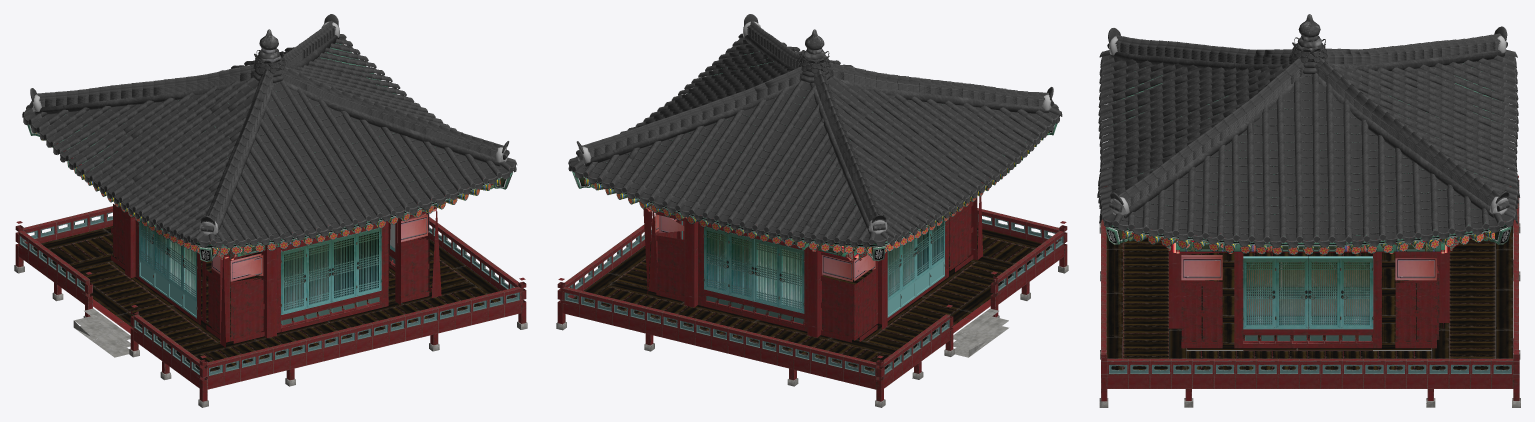
Rendered from gyullim.glb.
3 renders of one model, left to right at view 1: azimuth 30°, elevation 25°; view 2: azimuth 150°, elevation 25°; view 3: azimuth 270°, elevation 25°, orthographic. The views are drawn at different scales.
Visible parts, largest first — view 1: 12_Gyullimdang, 12_Gyullimdang_R12_Roof_0.001, 12_Gyullimdang_R12_Roof_0.002, 12_Gyullimdang_door_0.001, 12_Gyullimdang_door_0.002; view 2: 12_Gyullimdang, 12_Gyullimdang_R12_Roof_0.001, 12_Gyullimdang_R12_Roof_0.002, 12_Gyullimdang_door_0.001, 12_Gyullimdang_door_0.002; view 3: 12_Gyullimdang, 12_Gyullimdang_R12_Roof_0.001, 12_Gyullimdang_R12_Roof_0.002, 12_Gyullimdang_door_0.001.
Boxes of the visible parts, <box> form: 12_Gyullimdang: <box>14,14,527,407</box>; 12_Gyullimdang_R12_Roof_0.001: <box>22,34,516,247</box>; 12_Gyullimdang_R12_Roof_0.002: <box>23,34,515,241</box>; 12_Gyullimdang_door_0.001: <box>138,220,402,314</box>; 12_Gyullimdang_door_0.002: <box>138,221,182,298</box>; 12_Gyullimdang: <box>556,14,1068,407</box>; 12_Gyullimdang_R12_Roof_0.001: <box>568,33,1062,247</box>; 12_Gyullimdang_R12_Roof_0.002: <box>569,33,1059,244</box>; 12_Gyullimdang_door_0.001: <box>703,226,930,313</box>; 12_Gyullimdang_door_0.002: <box>703,230,931,317</box>; 12_Gyullimdang: <box>1097,14,1520,407</box>; 12_Gyullimdang_R12_Roof_0.001: <box>1097,49,1519,247</box>; 12_Gyullimdang_R12_Roof_0.002: <box>1099,50,1514,238</box>; 12_Gyullimdang_door_0.001: <box>1242,256,1373,329</box>.
Bounding box in the file's own units: 9.97 × 7.6 × 9.61.
18 materials, 18 textured.
